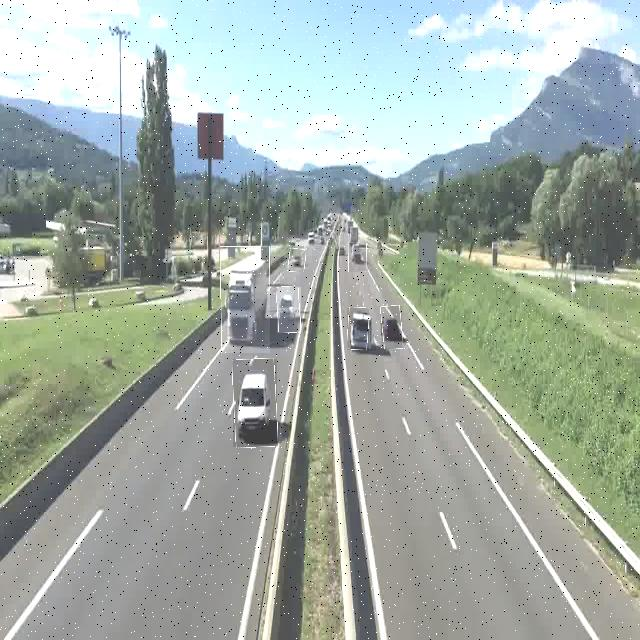Car: (233, 359, 277, 447), (277, 287, 301, 333), (347, 308, 369, 350), (381, 306, 402, 349), (349, 242, 367, 272), (289, 249, 305, 272)
Truck: (221, 246, 270, 353)
